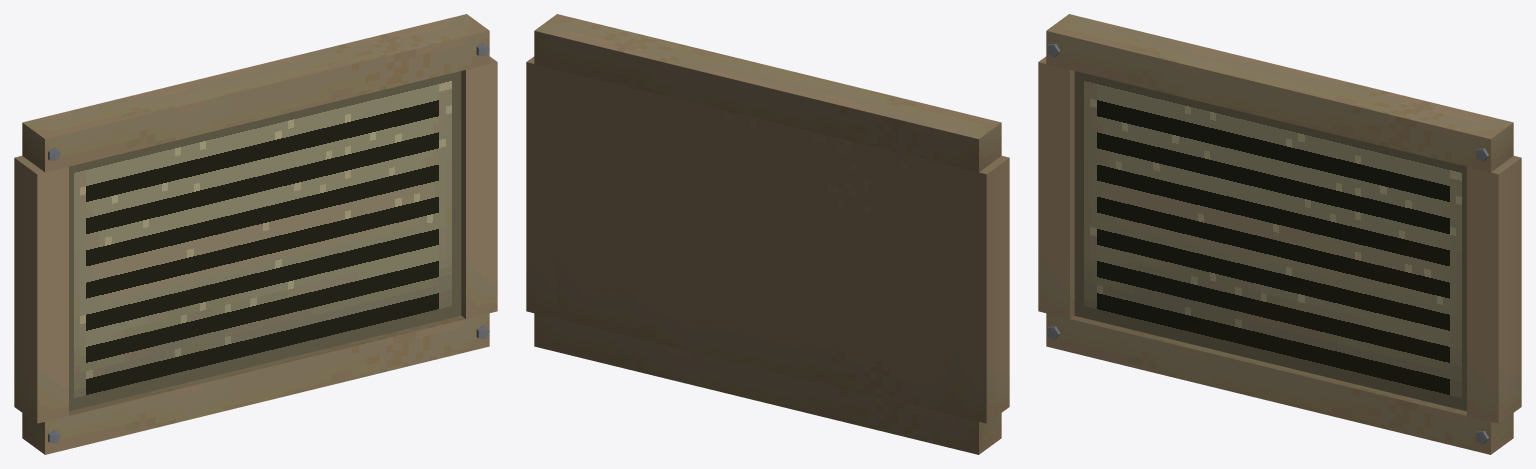
File: psx-vent.glb
3 renders of one model, left to right at view 1: azimuth 30°, elevation 25°; view 2: azimuth 150°, elevation 25°; view 3: azimuth 330°, elevation 25°, orthographic.
Parts seen in each view (by area): view 1: vent_wall; view 2: vent_wall; view 3: vent_wall.
Boxes of the visible parts, x1,y1,x2,y2 form: vent_wall: [14, 14, 497, 454]; vent_wall: [526, 14, 1009, 454]; vent_wall: [1038, 14, 1521, 454].
Size of the model in its own units: 0.58 by 0.38 by 0.054.
Materials: 1 (1 with a texture image).
